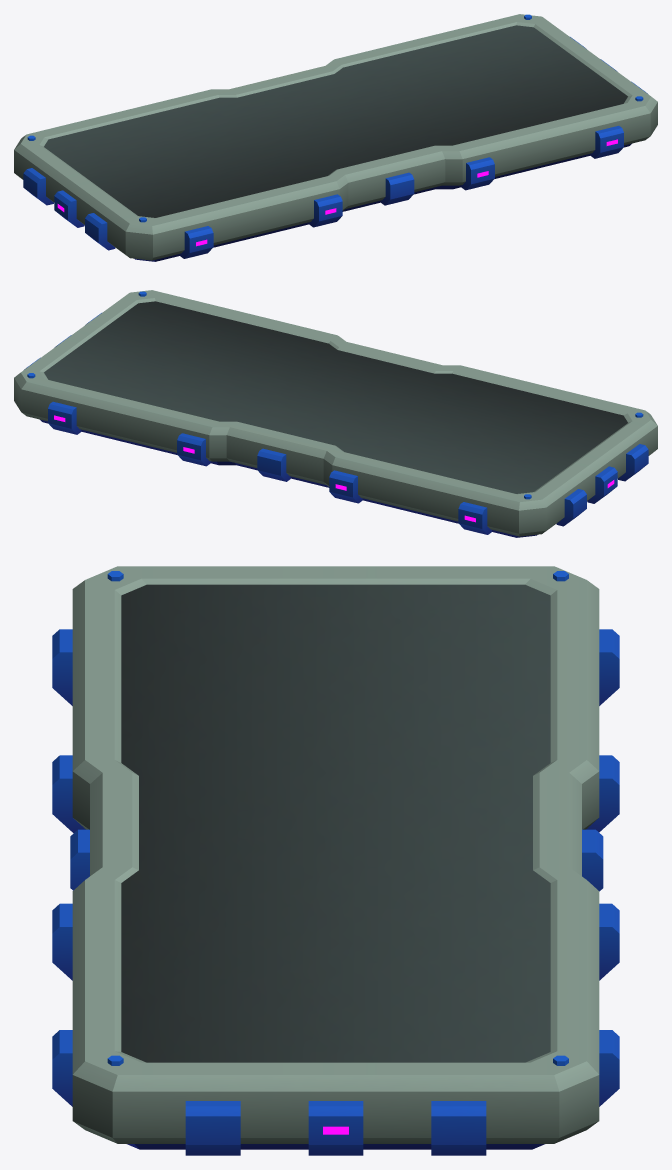
File: platform_001.fbx
3 views of the same model, one above another, from view 1: azimuth 30°, elevation 25°; view 2: azimuth 150°, elevation 25°; view 3: azimuth 270°, elevation 25° (orthographic). The views are drawn at different scales.
Parts seen in each view (by area): view 1: platform.001; view 2: platform.001; view 3: platform.001.
Part boxes in pixels (x1,y1,x2,y2): platform.001: (14, 14, 657, 261); platform.001: (14, 290, 657, 537); platform.001: (52, 566, 619, 1155).
Bounding box in the file's own units: 723 × 56.47 × 323.
